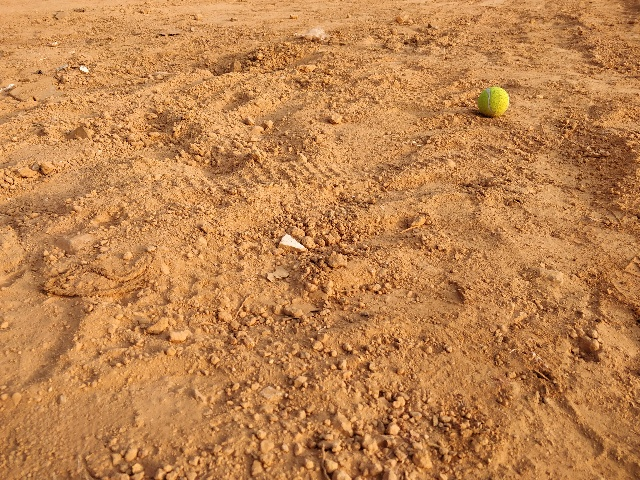ball: (472, 81, 515, 121)
